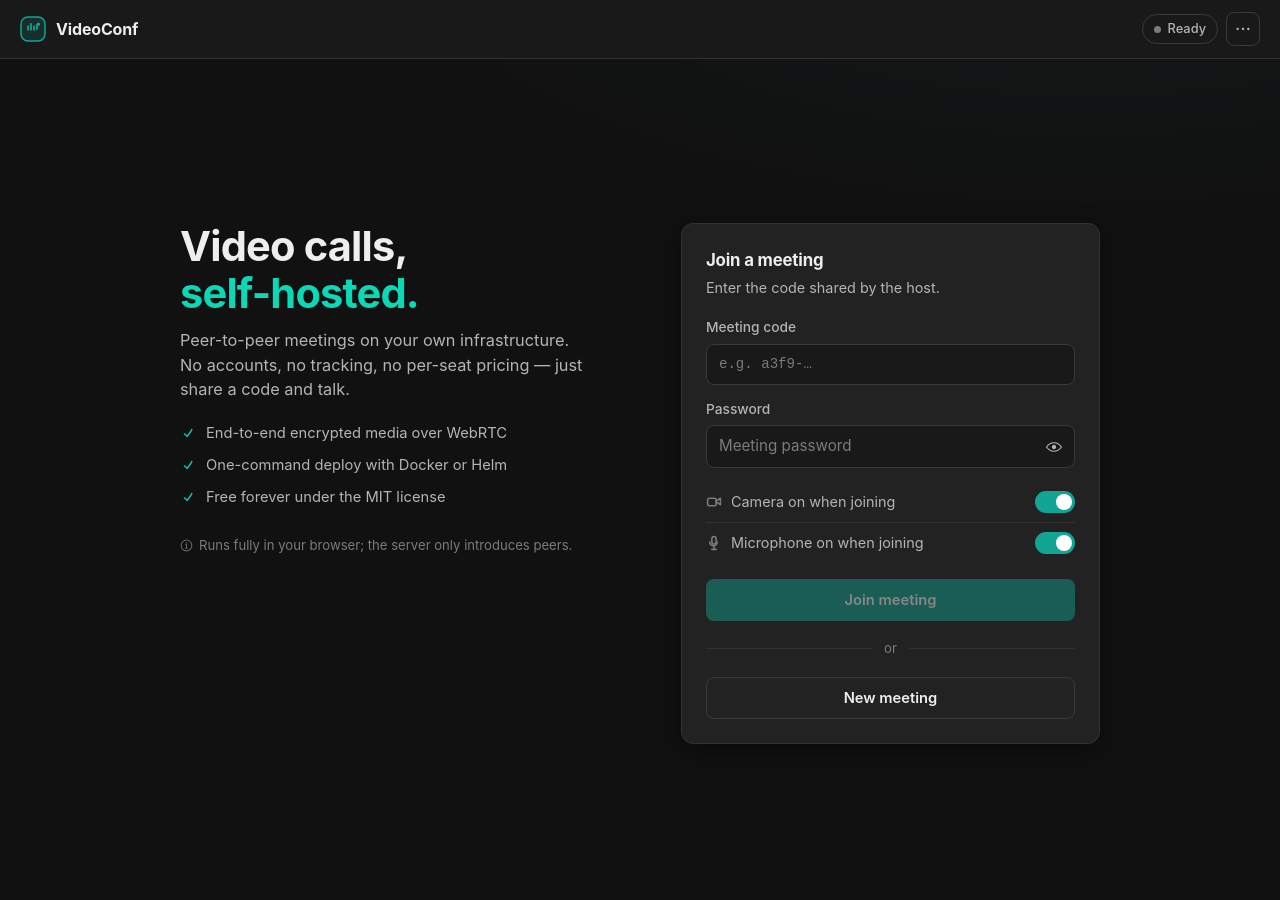
it: App graphite UI › opens the create-meeting dialog
Click the button "New meeting" at (890, 698), box [706, 677, 1075, 719]
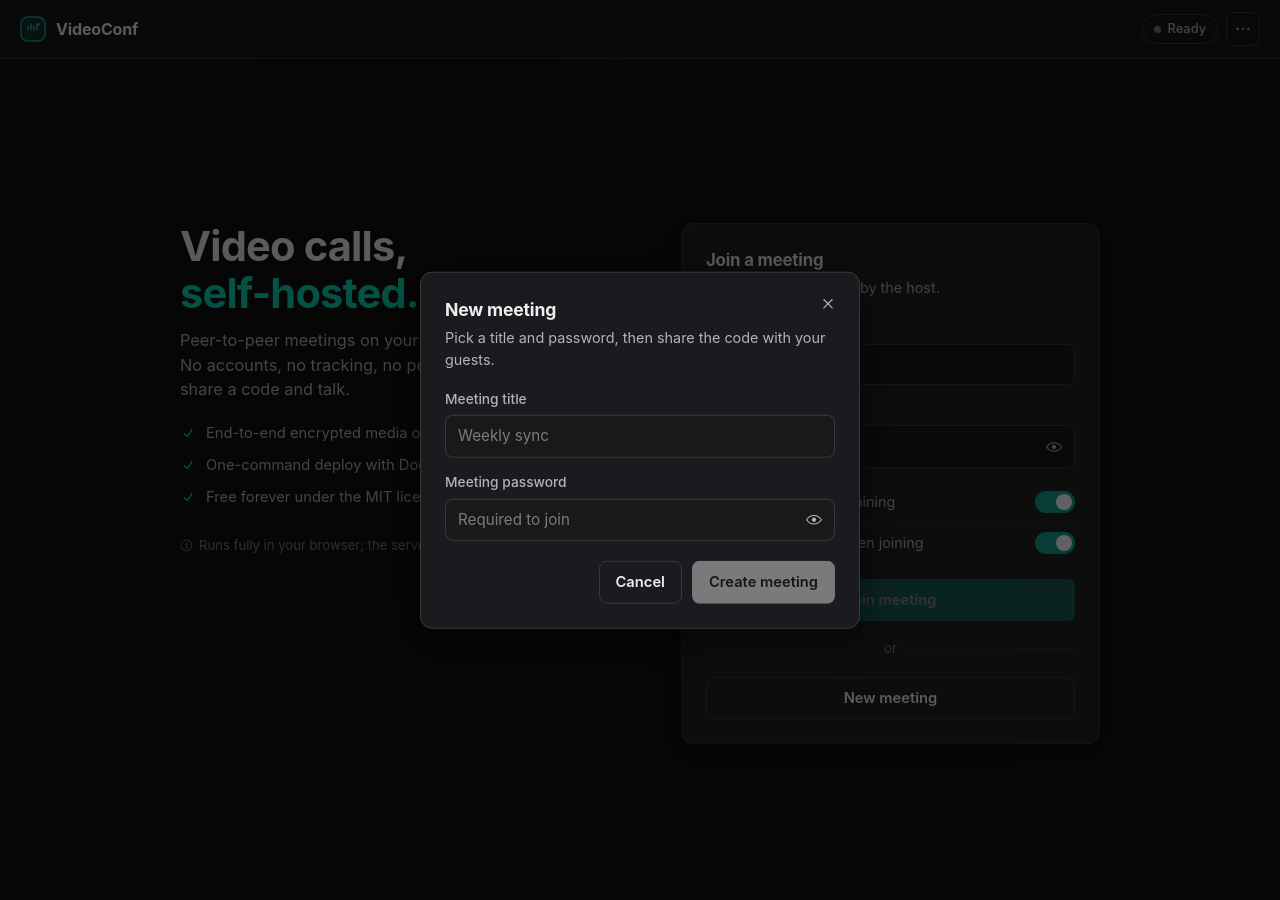
Check: the dialog is shown, box [420, 272, 860, 628]
Check: the field labelled "Meeting title" is shown, box [445, 415, 835, 458]
Check: the password field labelled "Meeting password" is shown, box [445, 498, 835, 541]
